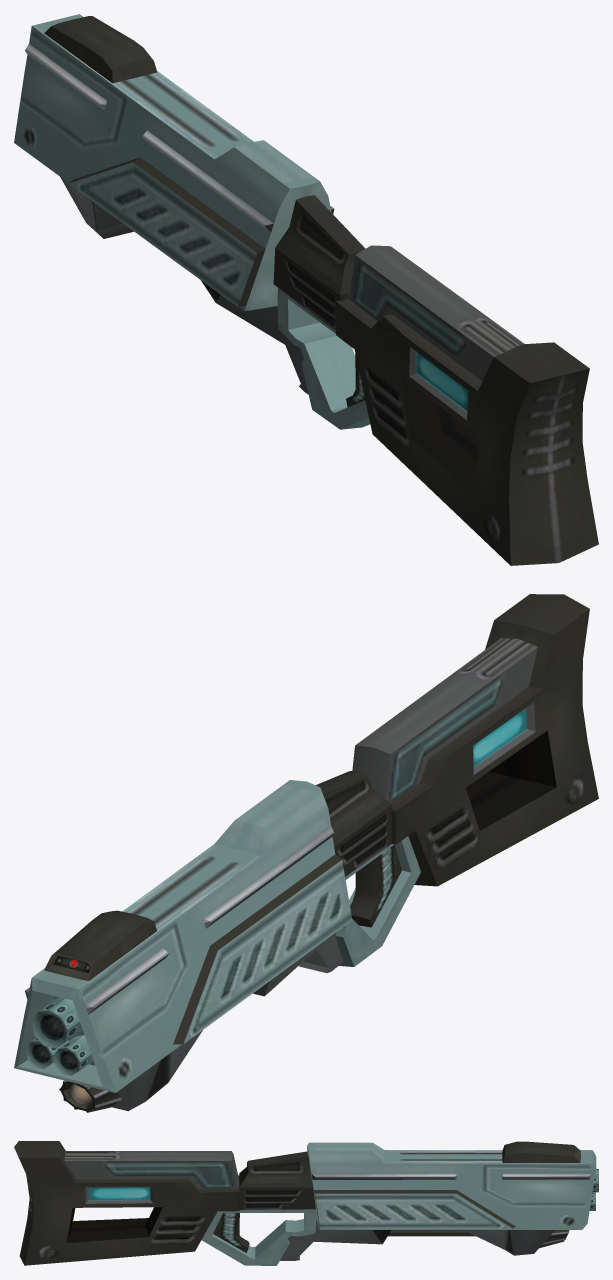
Rendered from pdw-x44.obj.
3 renders of one model, top to bottom at view 1: azimuth 30°, elevation 25°; view 2: azimuth 150°, elevation 25°; view 3: azimuth 270°, elevation 25°, orthographic. The views are drawn at different scales.
Parts seen in each view (by area): view 1: Handle1; view 2: Handle1; view 3: Handle1.
Part boxes in pixels (x1,y1,x2,y2): Handle1: (14, 14, 598, 565); Handle1: (14, 594, 598, 1112); Handle1: (14, 1141, 598, 1265).
Size of the model in its own units: 0.508 by 0.8551 by 3.94.
1 material, 1 textured.
